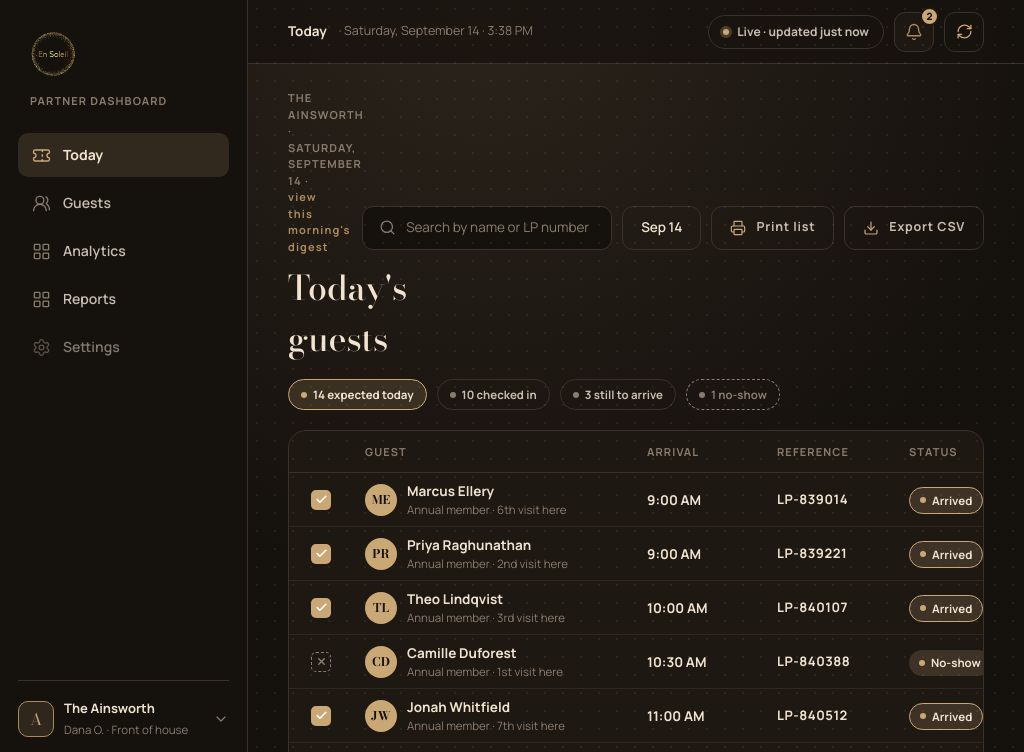
Test: search/filter guests › filtra la lista por nombre
Type "theo" into the field labelled "Search by name or LP number" at point(501, 228), box left=406, top=217, right=595, bottom=238
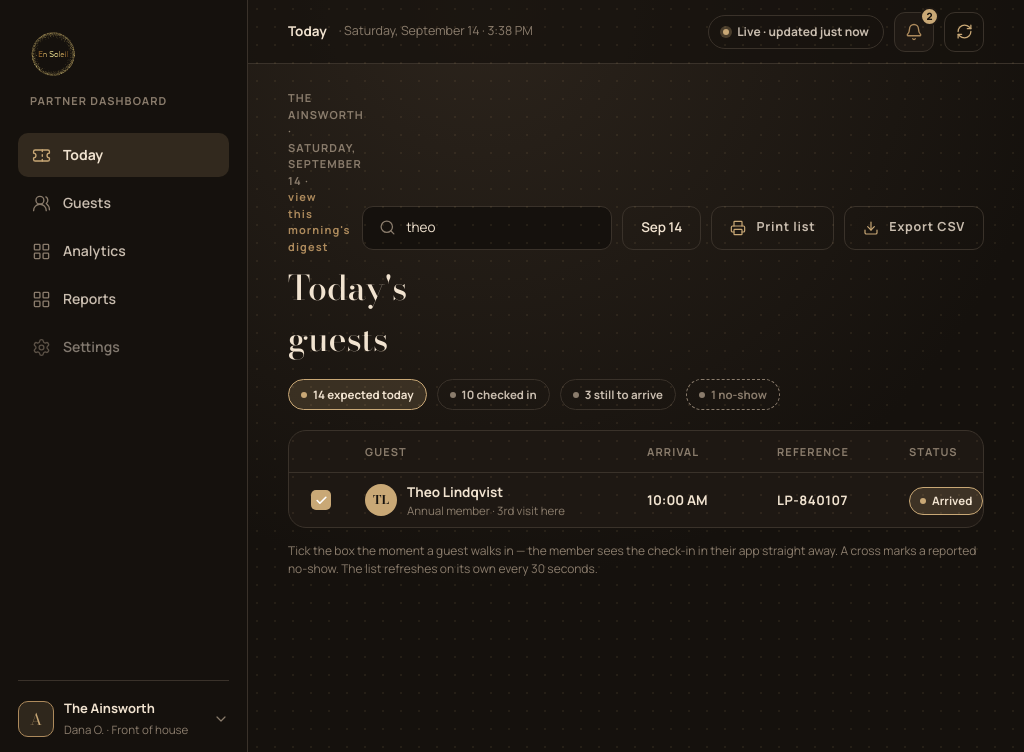
Expected: the text "Theo Lindqvist" is shown, left=407, top=482, right=503, bottom=500
Result: the button "Camille Duforest" is gone
